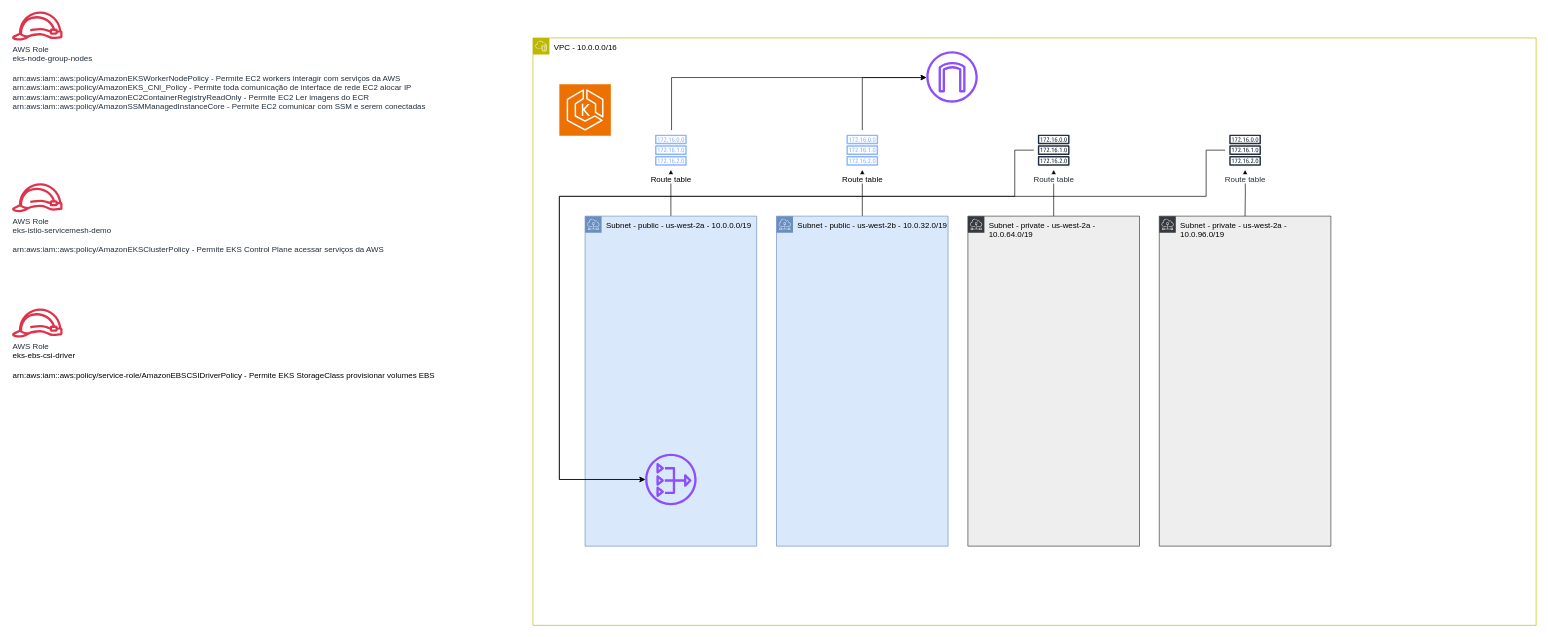
The diagram is 1548 pixels wide and 637 high, and some of its shapes have lost their labels. Here are the shapes that lost their labels. From the top down, the centre of each, then its label:
the point at 951,76: Internet Gateway
the point at 585,109: EKS
the point at 670,479: NAT Gateway
